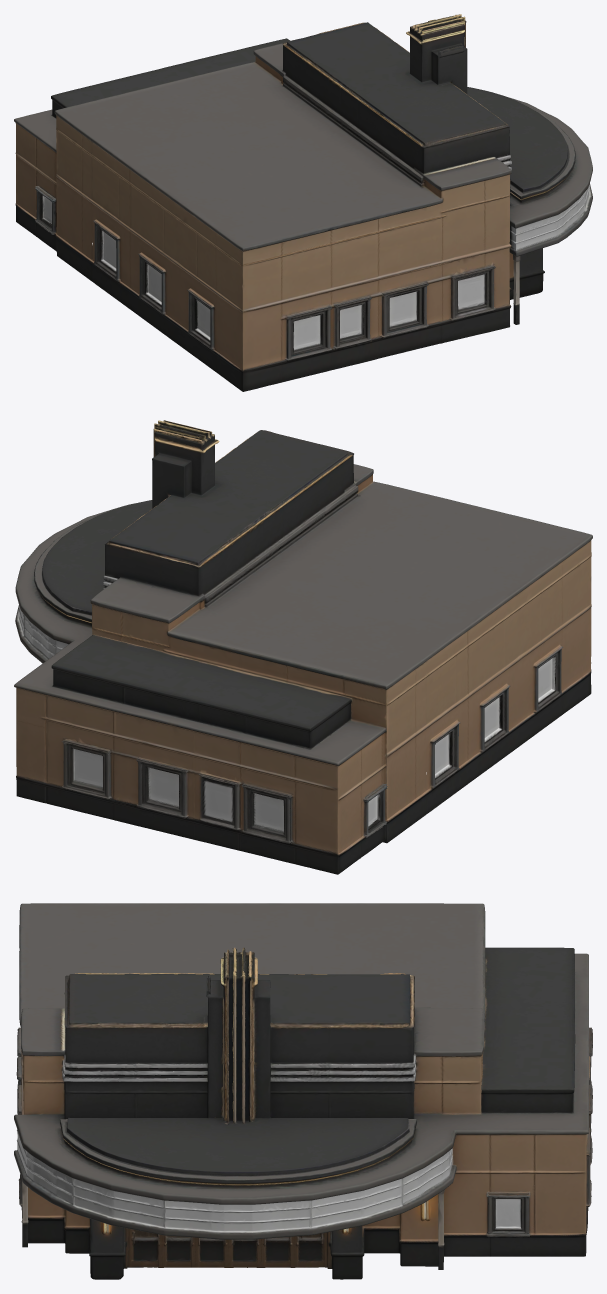
The model's file is cinema.glb.
3 renders of one model, top to bottom at view 1: azimuth 30°, elevation 25°; view 2: azimuth 150°, elevation 25°; view 3: azimuth 270°, elevation 25°, orthographic. The views are drawn at different scales.
Parts seen in each view (by area): view 1: tripo_node_8db9cc81-a424-41ee-9432-07786de86a19; view 2: tripo_node_8db9cc81-a424-41ee-9432-07786de86a19; view 3: tripo_node_8db9cc81-a424-41ee-9432-07786de86a19.
Boxes of the visible parts, box(x1,y1,x2,y2) form: tripo_node_8db9cc81-a424-41ee-9432-07786de86a19: box(14, 14, 592, 391); tripo_node_8db9cc81-a424-41ee-9432-07786de86a19: box(14, 420, 592, 874); tripo_node_8db9cc81-a424-41ee-9432-07786de86a19: box(14, 903, 592, 1279).
Bounding box in the file's own units: 21.8 × 12 × 21.49.
1 material, 1 textured.
